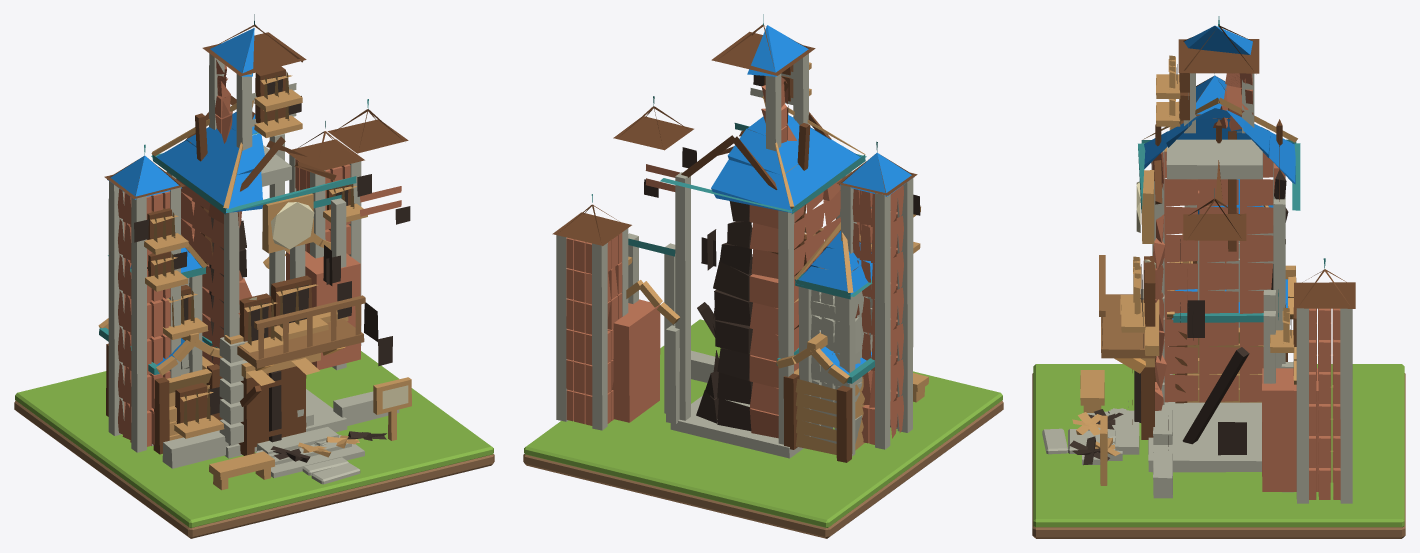
The model's file is town_hall_l13_damaged_LOD2.glb.
3 views of the same model, side by side, from view 1: azimuth 30°, elevation 25°; view 2: azimuth 150°, elevation 25°; view 3: azimuth 270°, elevation 25° (orthographic). The views are drawn at different scales.
Visible parts, largest first — view 1: town_hall_l13_damaged_foundation.001, town_hall_l13_damaged_grass_tile.001, town_hall_l13_damaged_earth_tile.001, town_hall_l13_damaged_path_stone.005; view 2: town_hall_l13_damaged_foundation.001, town_hall_l13_damaged_grass_tile.001, town_hall_l13_damaged_earth_tile.001; view 3: town_hall_l13_damaged_foundation.001, town_hall_l13_damaged_grass_tile.001, town_hall_l13_damaged_earth_tile.001, town_hall_l13_damaged_path_stone.005.
Part boxes in pixels (box(x1,y1,x2,y2)): town_hall_l13_damaged_foundation.001: box(98, 14, 411, 490); town_hall_l13_damaged_grass_tile.001: box(15, 351, 493, 527); town_hall_l13_damaged_earth_tile.001: box(14, 400, 494, 538); town_hall_l13_damaged_path_stone.005: box(311, 463, 360, 484); town_hall_l13_damaged_foundation.001: box(552, 14, 928, 462); town_hall_l13_damaged_grass_tile.001: box(524, 319, 1002, 527); town_hall_l13_damaged_earth_tile.001: box(523, 400, 1003, 538); town_hall_l13_damaged_foundation.001: box(1069, 16, 1355, 503); town_hall_l13_damaged_grass_tile.001: box(1033, 364, 1404, 527); town_hall_l13_damaged_earth_tile.001: box(1032, 373, 1405, 538); town_hall_l13_damaged_path_stone.005: box(1042, 428, 1067, 454).
Size of the model in its own units: 3.6 by 4.76 by 3.6.
